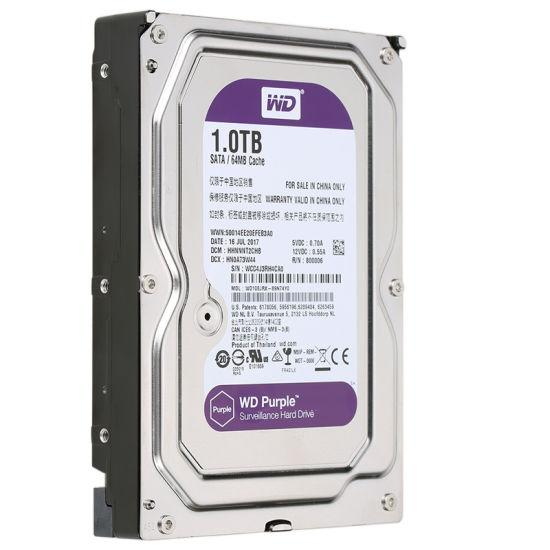internal HDD: (89, 11, 407, 543)
